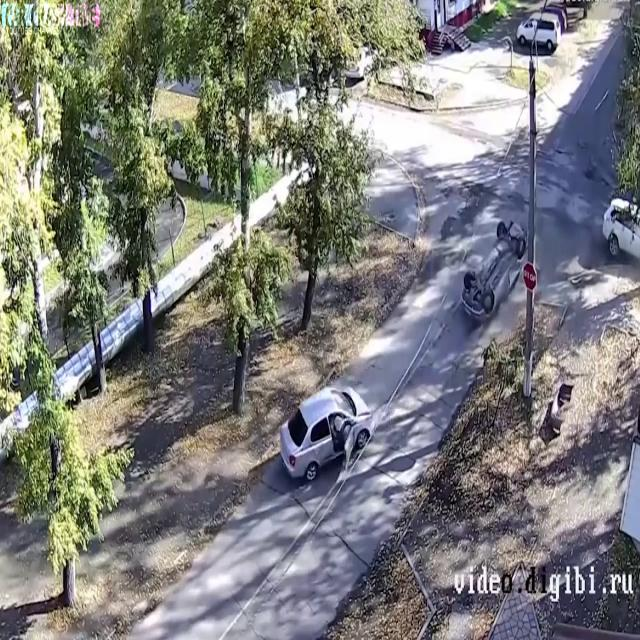Accident: (262, 351, 390, 492), (442, 212, 542, 343)
